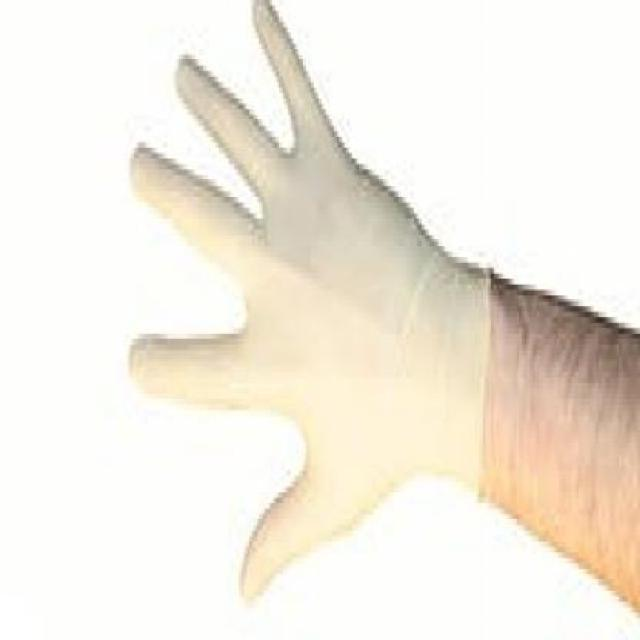gloved_hand: (118, 5, 494, 607)
